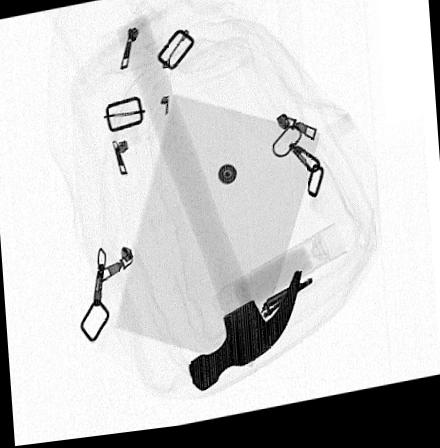Hammer: (116, 19, 301, 396)
